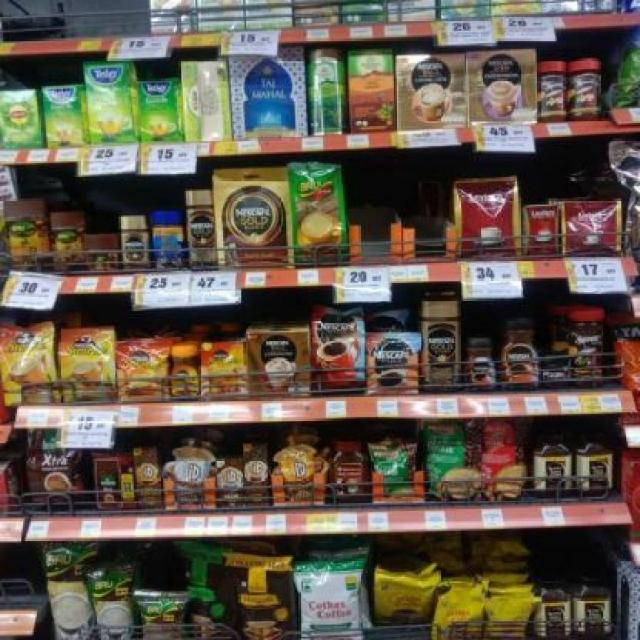Coffee: (313, 308, 364, 390), (0, 326, 55, 402), (61, 330, 113, 398), (424, 300, 459, 391), (367, 334, 416, 392), (118, 343, 167, 400), (502, 319, 541, 384), (187, 190, 216, 270), (464, 338, 499, 388), (121, 216, 147, 272), (169, 344, 197, 396), (544, 351, 574, 386)
